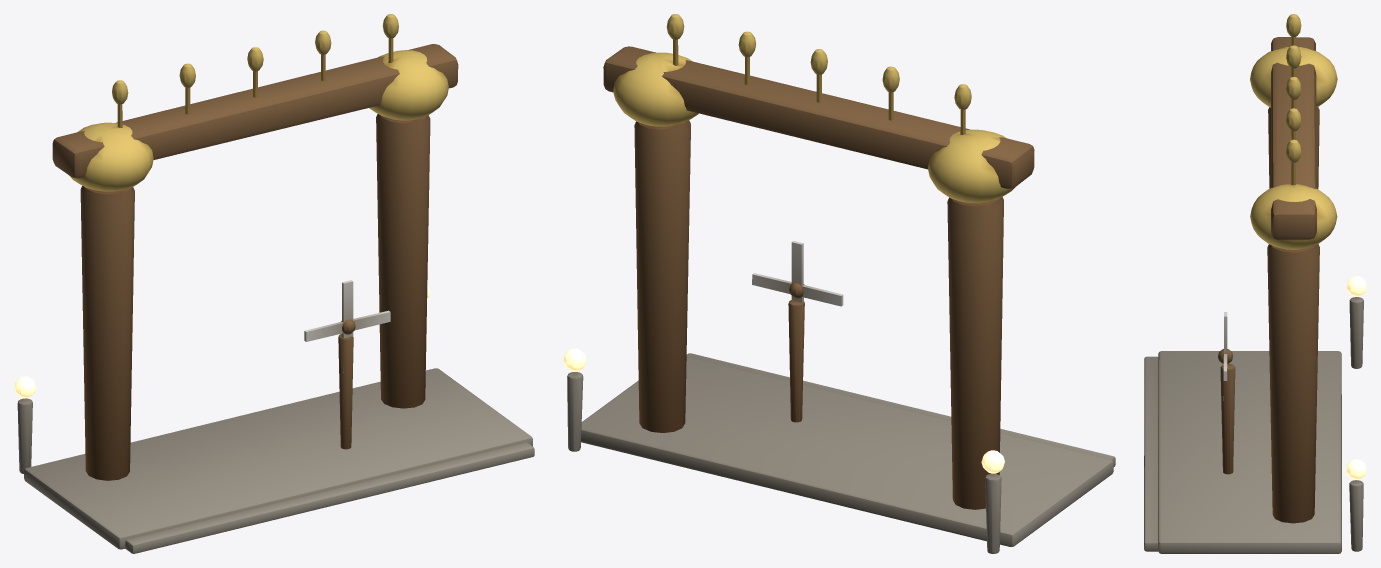
The picture shows the model from 3 angles, left to right: view 1: azimuth 30°, elevation 25°; view 2: azimuth 150°, elevation 25°; view 3: azimuth 270°, elevation 25°; orthographic projection. The views are drawn at different scales.
Visible parts, largest first — view 1: gate_4136e5ae; view 2: gate_4136e5ae; view 3: gate_4136e5ae.
Boxes of the visible parts, <box> form: gate_4136e5ae: <box>14,14,534,553</box>; gate_4136e5ae: <box>563,14,1115,553</box>; gate_4136e5ae: <box>1144,14,1366,553</box>.
Size of the model in its own units: 5.21 by 4.82 by 2.55.
